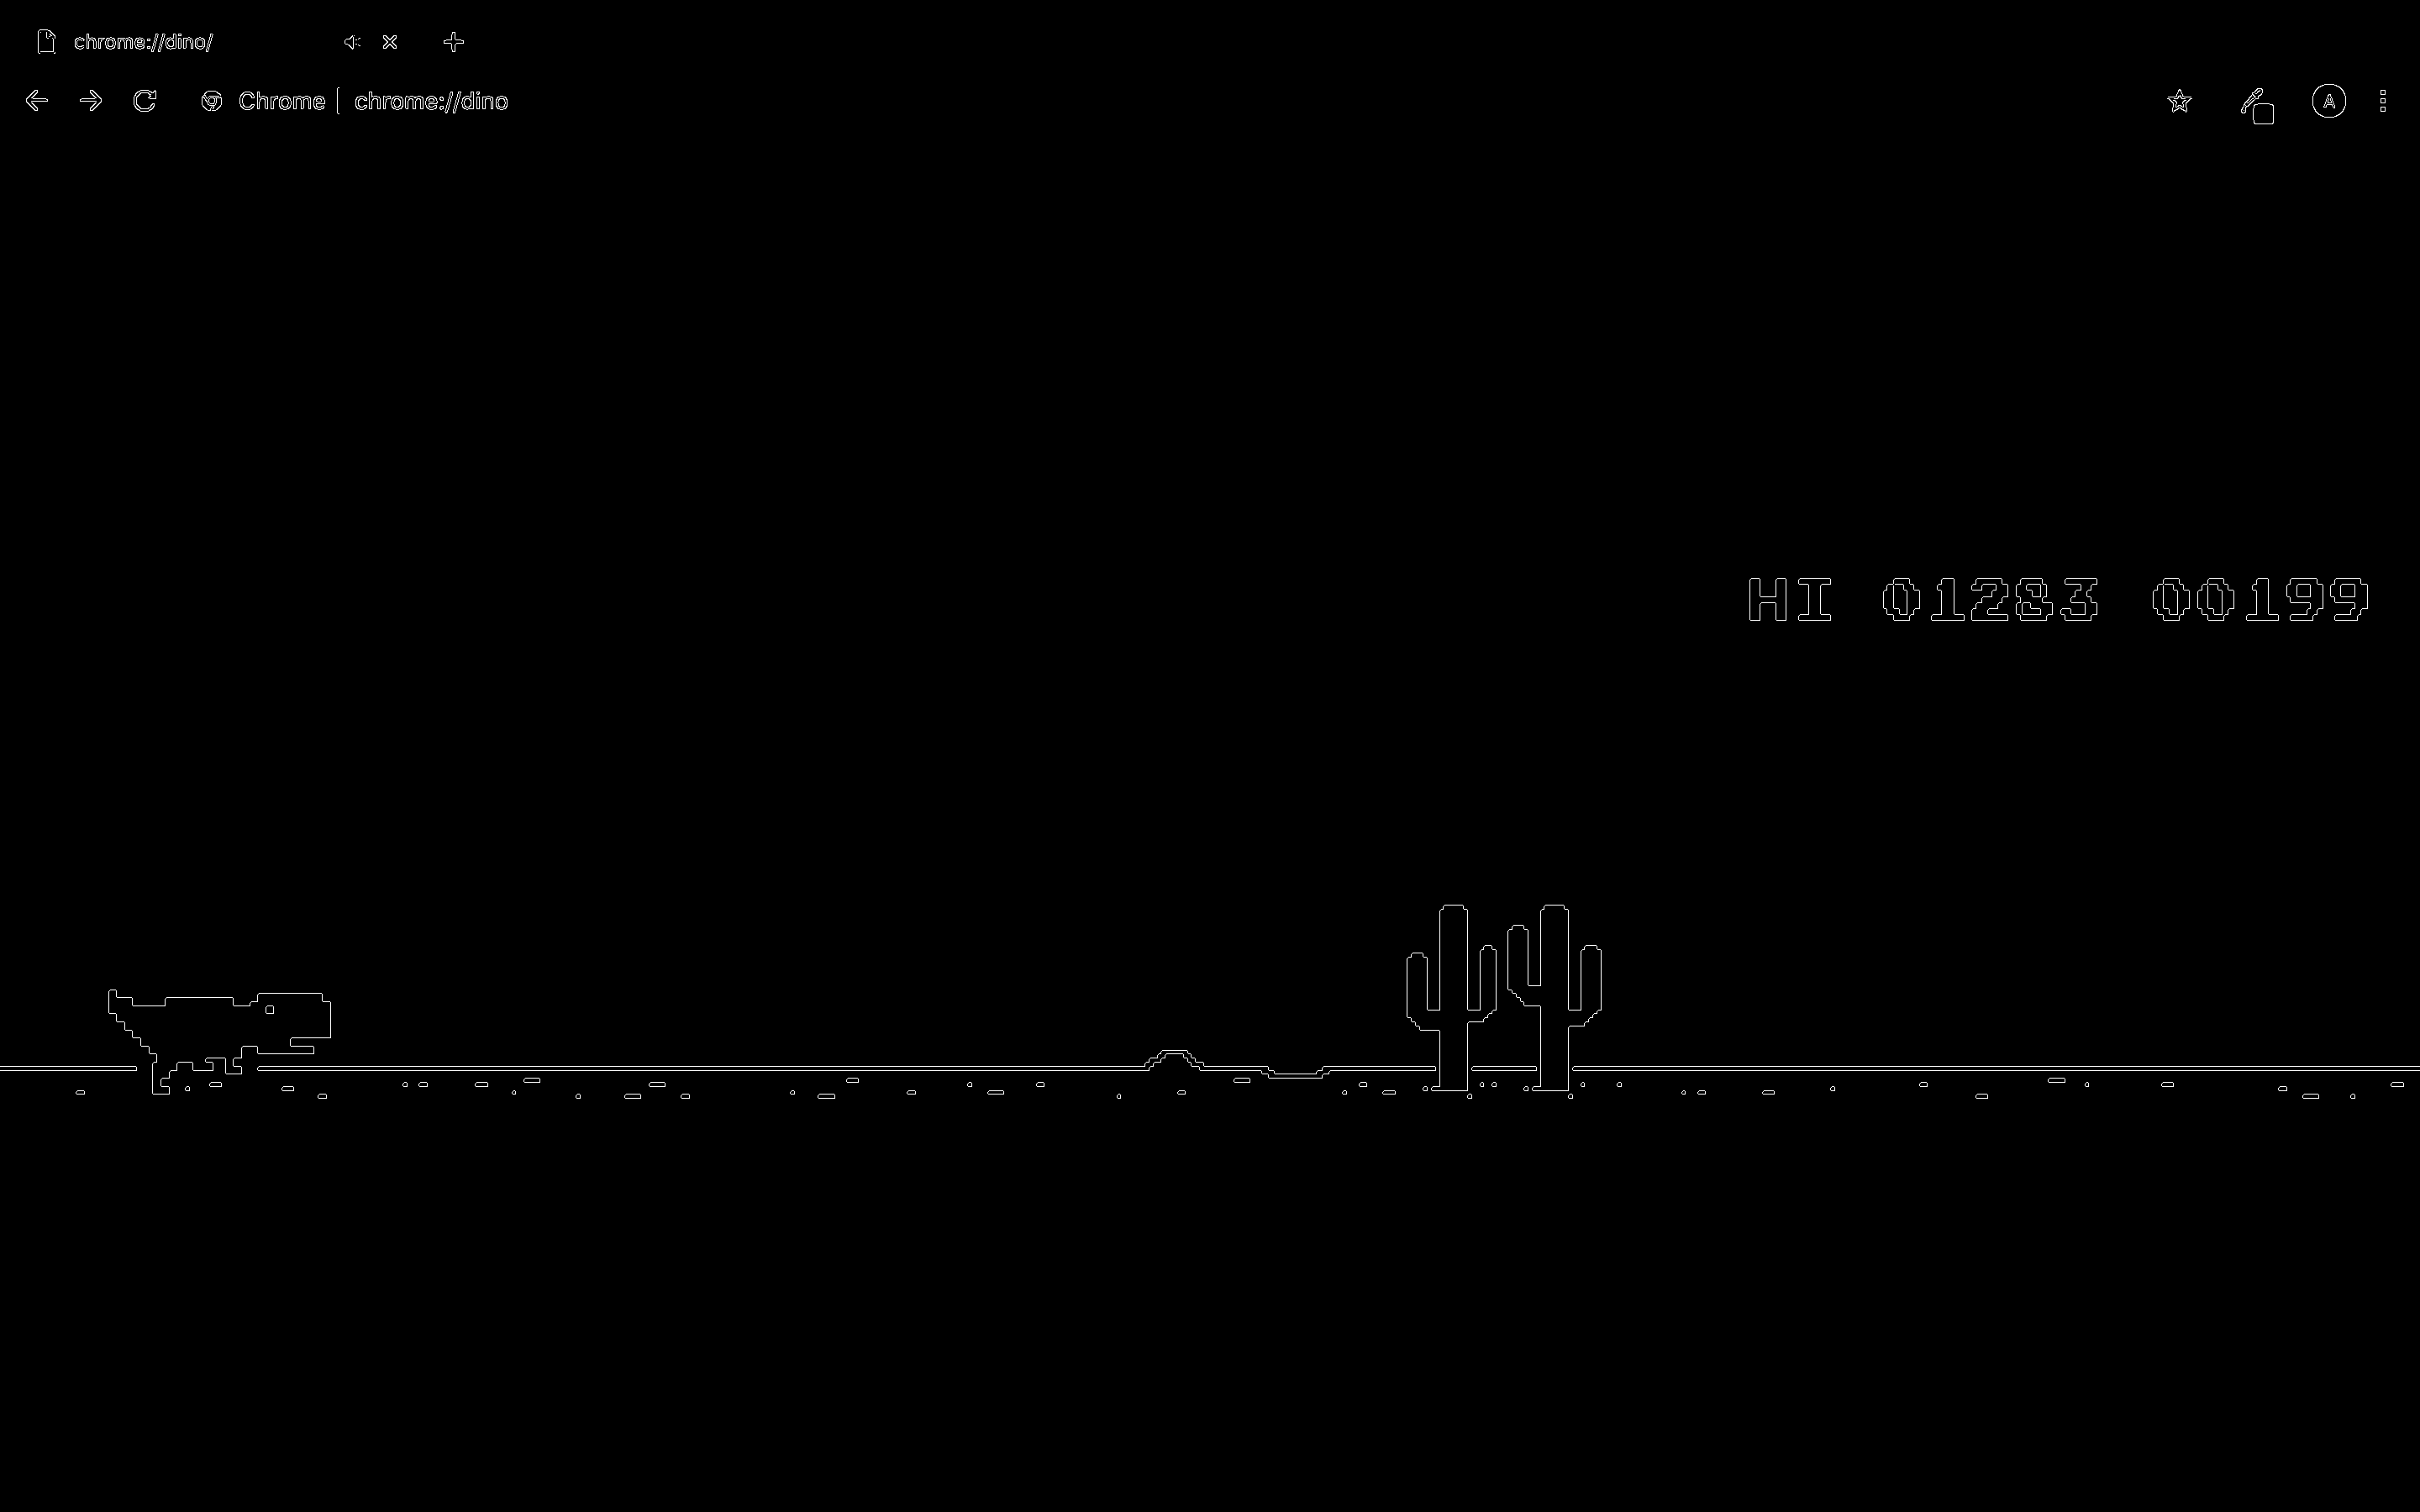Cactus: (1397, 904, 1505, 1097), (1509, 901, 1606, 1096)
Dino: (101, 986, 343, 1096)
